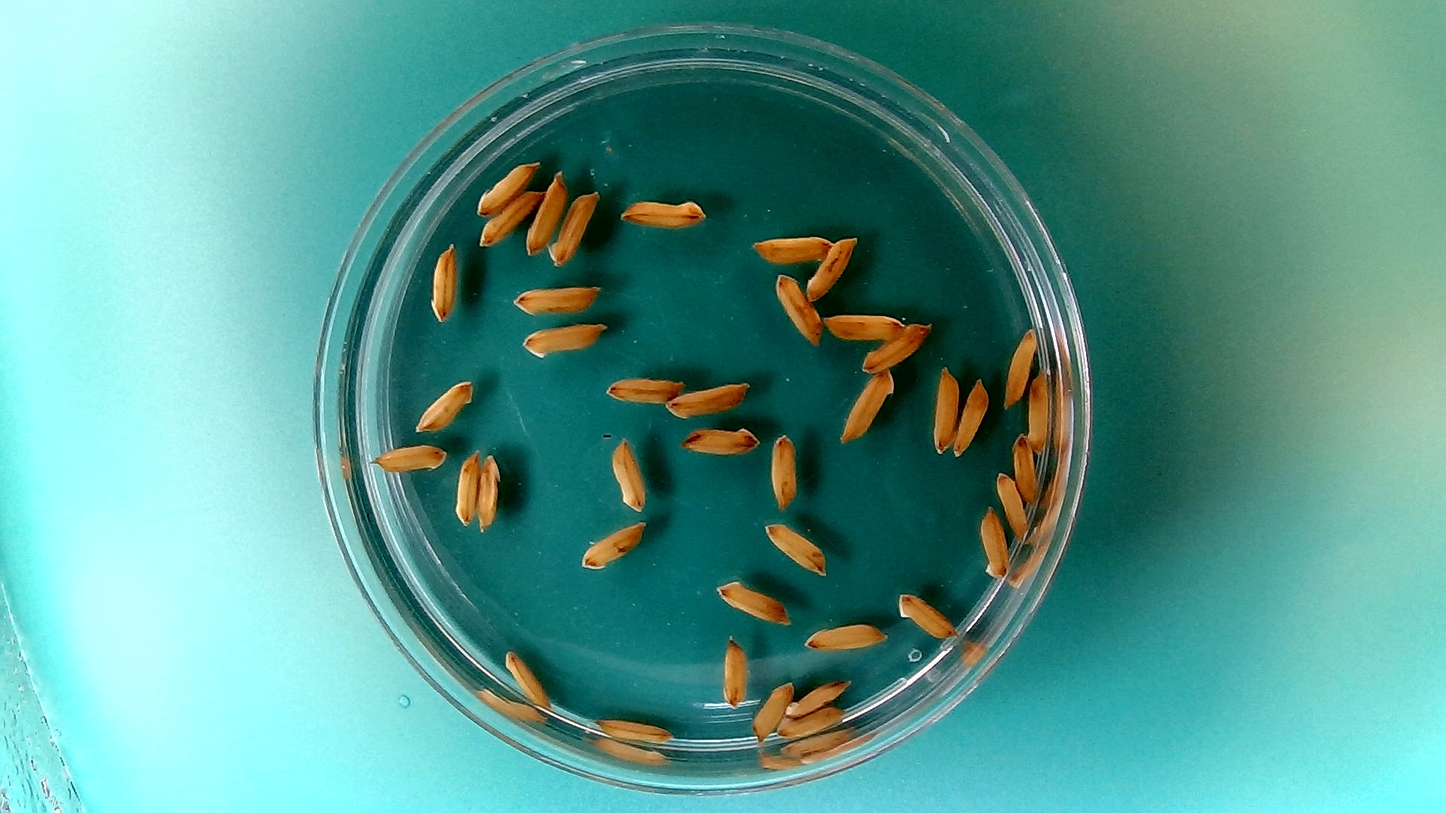no: (545, 187, 602, 268), (837, 367, 896, 443), (860, 318, 934, 374), (524, 166, 569, 258), (477, 187, 544, 248), (772, 270, 824, 348), (761, 517, 829, 576), (803, 232, 859, 303), (578, 517, 649, 572), (474, 158, 540, 217), (516, 319, 608, 361), (663, 376, 752, 419), (710, 579, 791, 626), (411, 376, 475, 432), (894, 589, 960, 641), (619, 193, 709, 231), (952, 373, 990, 459), (1000, 325, 1038, 411), (500, 645, 551, 709), (608, 434, 649, 513), (511, 282, 603, 317), (749, 230, 835, 266), (677, 423, 763, 458), (822, 309, 906, 344), (802, 619, 888, 653), (603, 372, 688, 406), (929, 364, 960, 456), (749, 678, 794, 741), (784, 676, 852, 717), (716, 632, 751, 711), (372, 440, 448, 476), (767, 428, 799, 512), (775, 704, 847, 741), (975, 503, 1008, 583), (429, 238, 460, 323), (593, 713, 675, 745), (993, 468, 1029, 540), (1023, 367, 1052, 454), (451, 446, 480, 529), (475, 449, 502, 531), (1011, 432, 1040, 505)
